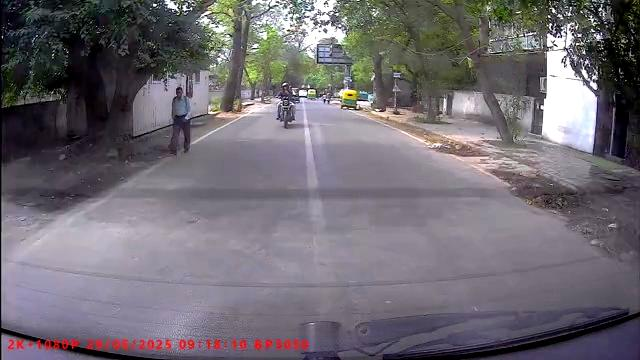motorcycle_with_helmet: (275, 80, 297, 130)
